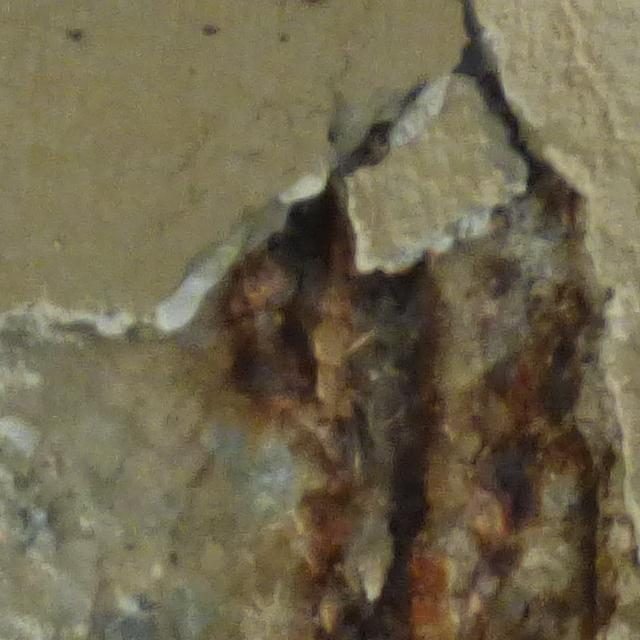Rust: (230, 195, 448, 640)
